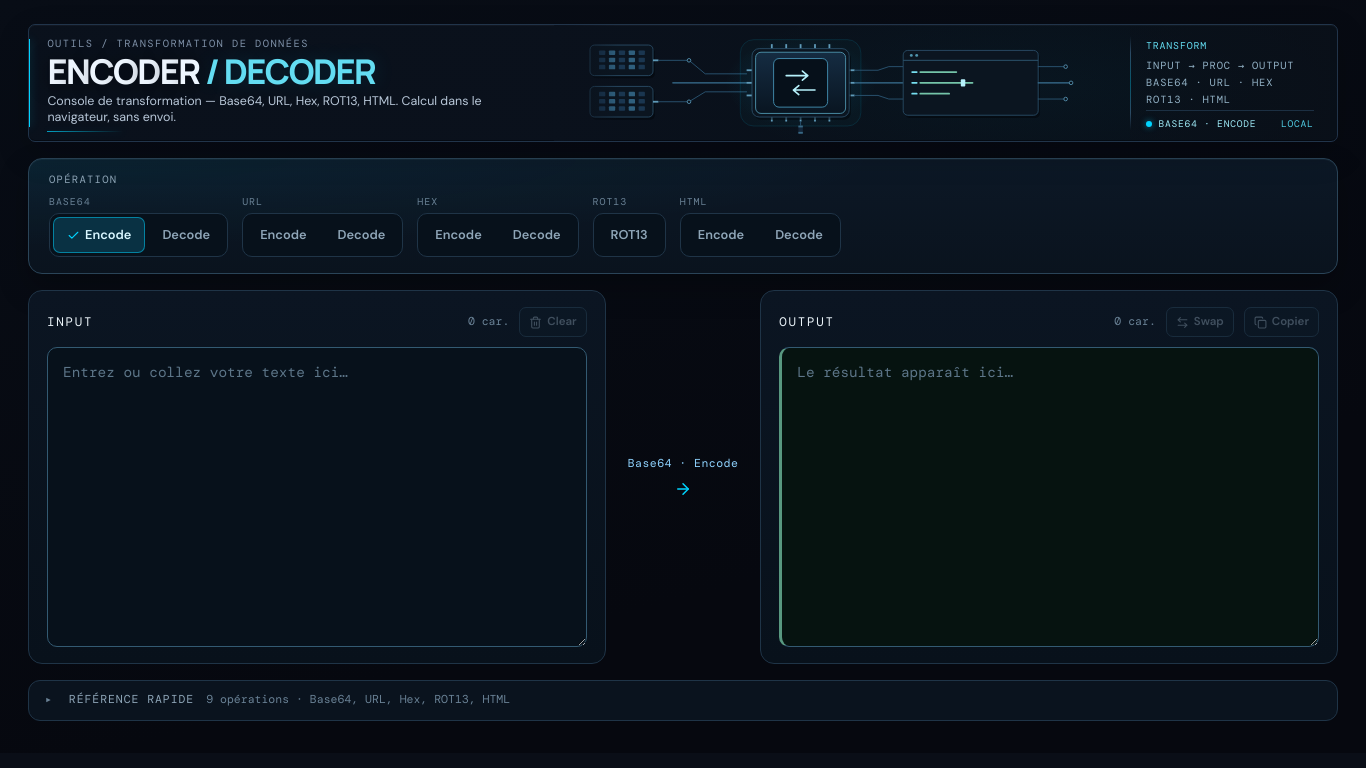
Test: EncoderDecoder page › Clear empties both panes, removes errors, resets counters and disables dependent actions
Click the button with aria-label "Base64 Decode" at (186, 235), box top-left (148, 217), bottom-right (224, 253)
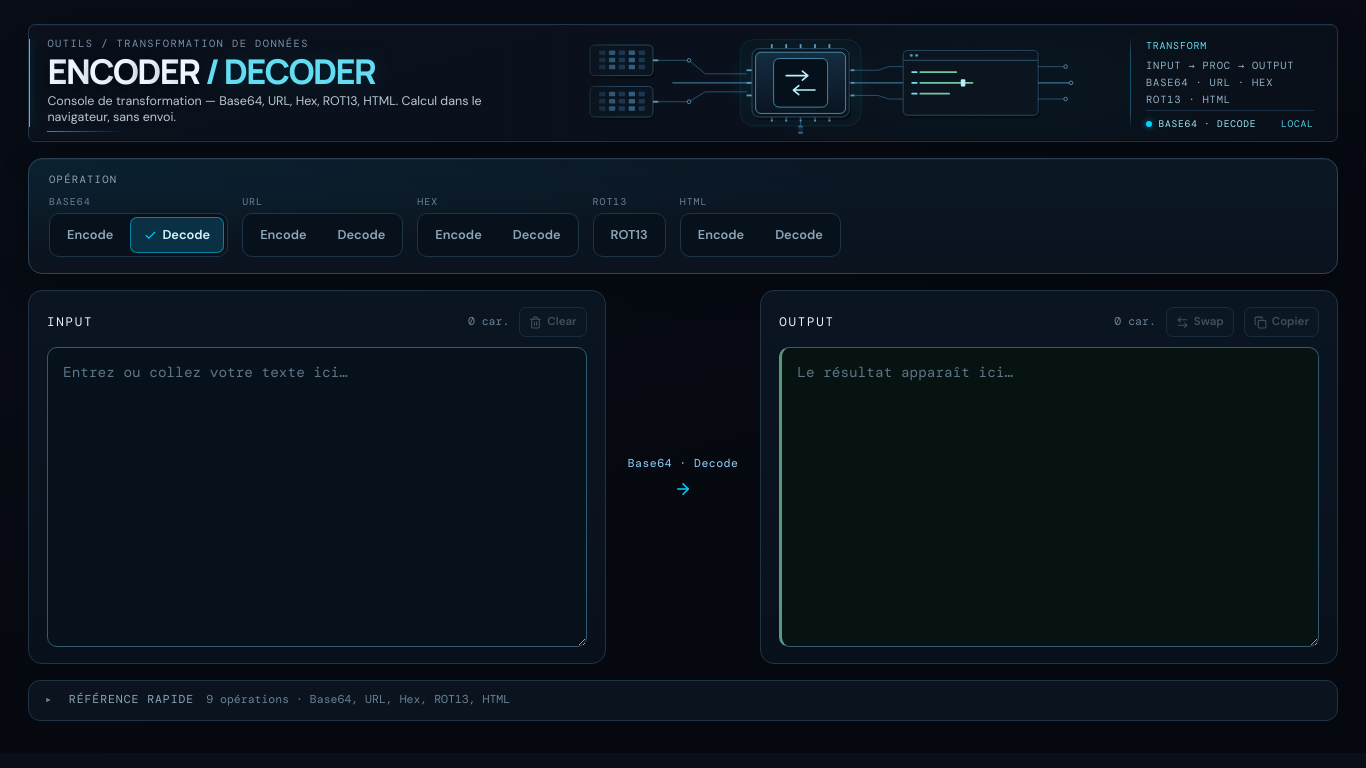
Type "%%%" into the text box named "Texte à transformer" at (317, 497), box top-left (47, 347), bottom-right (587, 647)
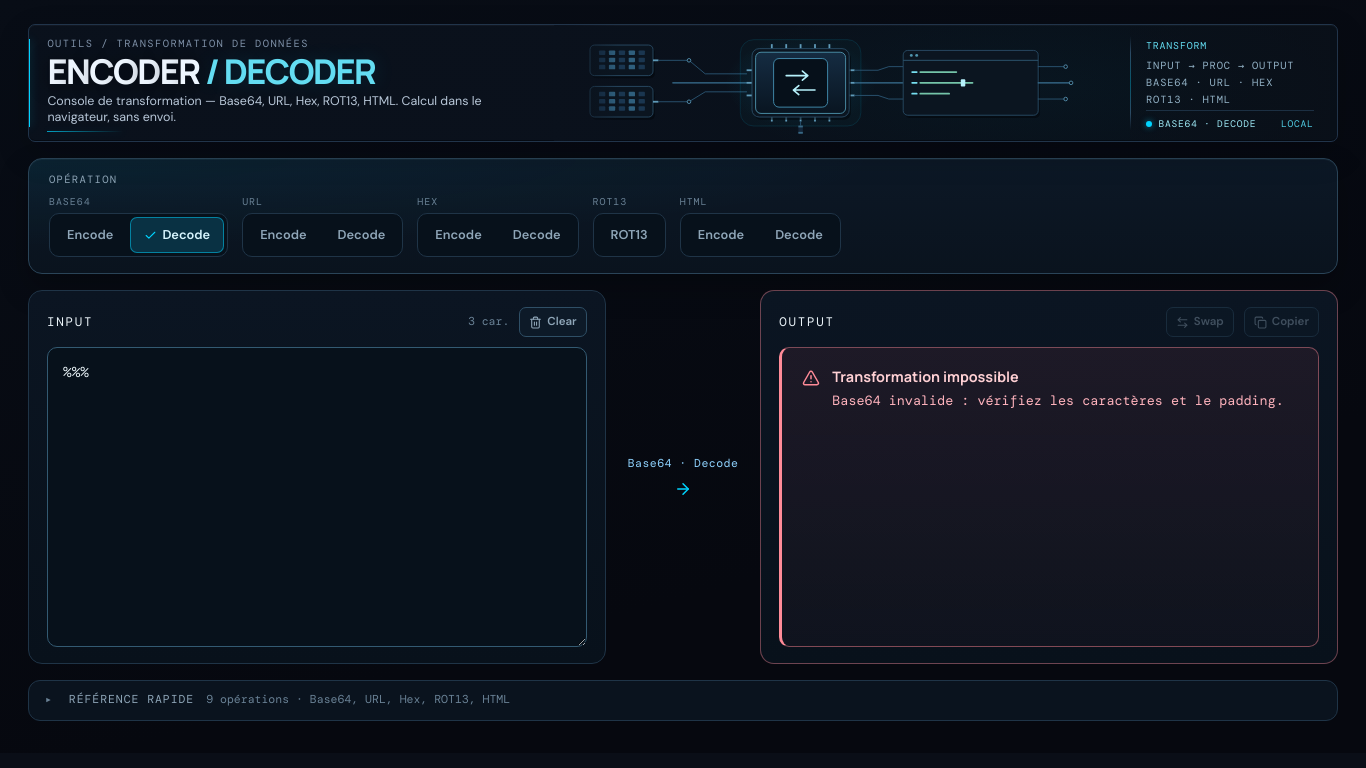
Expected: the button "Swap" is disabled, top-left (1166, 307), bottom-right (1234, 337)
Expected: the message is shown, top-left (779, 347), bottom-right (1319, 647)
Click the button "Clear" at (553, 322), box top-left (519, 307), bottom-right (587, 337)
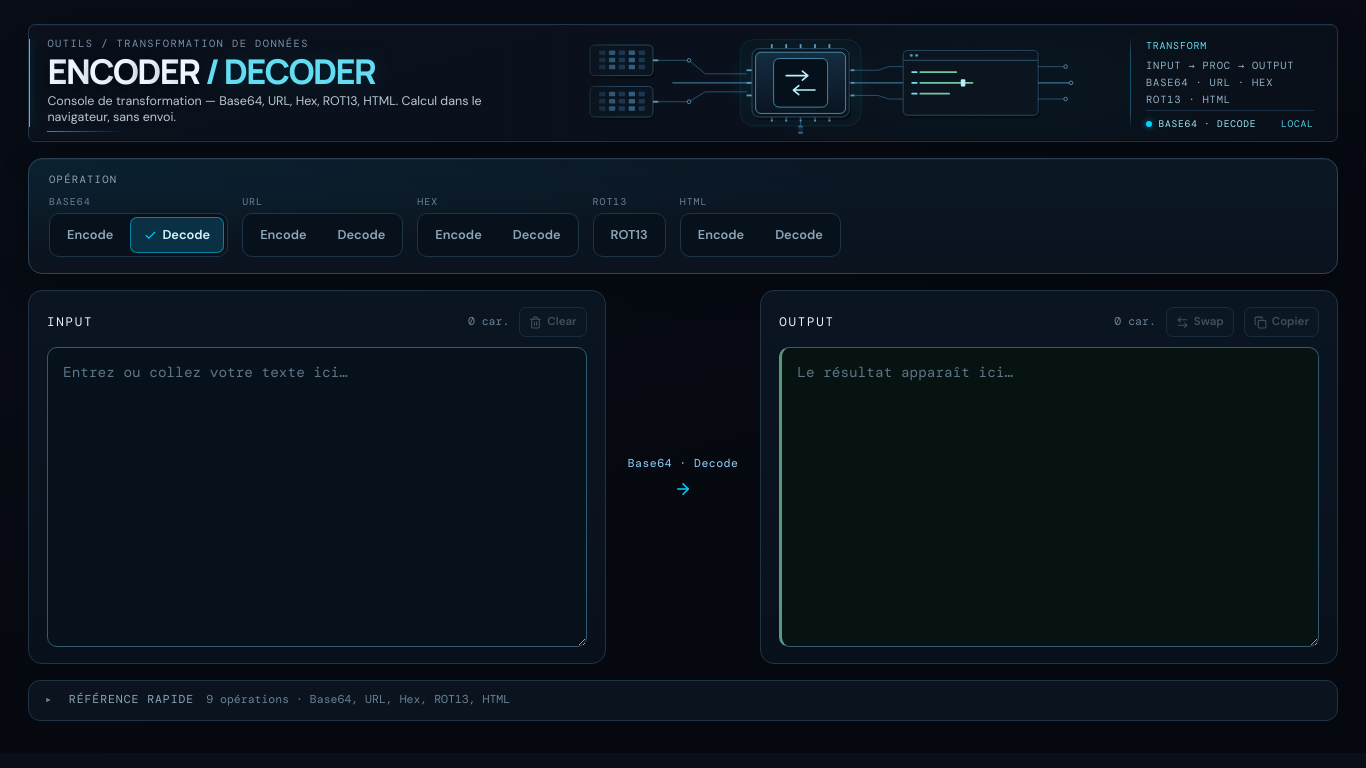
Expected: the text box named "Texte à transformer" is empty, top-left (47, 347), bottom-right (587, 647)
Expected: the text box labelled "résultat" is empty, top-left (779, 347), bottom-right (1319, 647)
Expected: the message is gone
